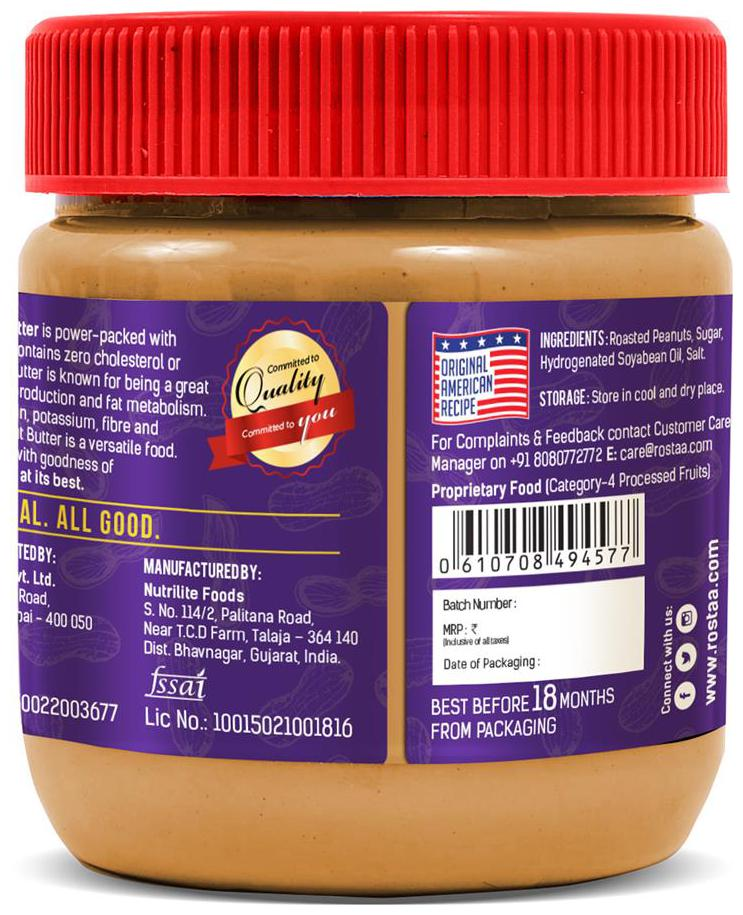fssai: (143, 664, 210, 703)
